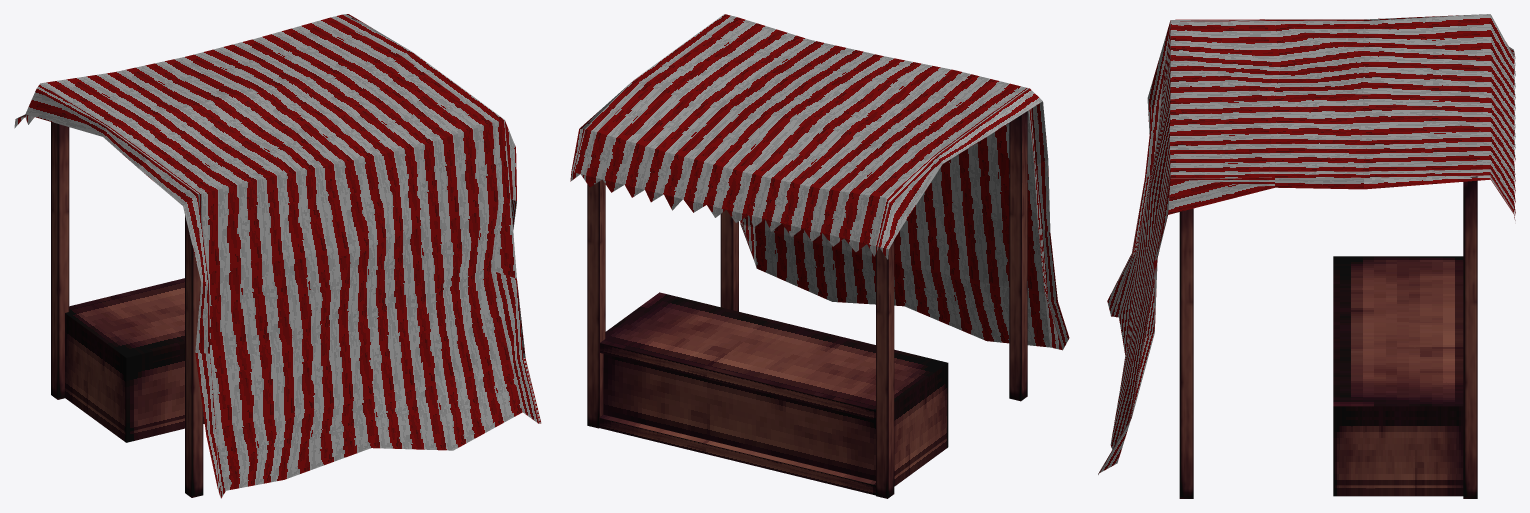
The model's file is stall.glb.
3 renders of one model, left to right at view 1: azimuth 30°, elevation 25°; view 2: azimuth 150°, elevation 25°; view 3: azimuth 270°, elevation 25°, orthographic. The views are drawn at different scales.
Visible parts, largest first — view 1: Plane, Cube.004, Cube.006, Cube.002; view 2: Plane, Cube.004, Cube.002, Cube.006, Cube.003, Cube.001; view 3: Plane, Cube.004, Cube.003, Cube.001.
Boxes of the visible parts, x1,y1,x2,y2 form: Plane: (14, 14, 541, 498); Cube.004: (65, 278, 204, 442); Cube.006: (51, 122, 69, 399); Cube.002: (185, 215, 203, 497); Plane: (570, 14, 1069, 350); Cube.004: (599, 292, 948, 495); Cube.002: (1009, 111, 1027, 401); Cube.006: (876, 240, 894, 498); Cube.003: (587, 121, 605, 428); Cube.001: (720, 210, 738, 311); Plane: (1098, 14, 1515, 474); Cube.004: (1333, 256, 1463, 496); Cube.003: (1463, 176, 1477, 498); Cube.001: (1179, 208, 1193, 498).
Size of the model in its own units: 1.17 by 1.02 by 1.18.
Materials: 6 (6 with a texture image).
